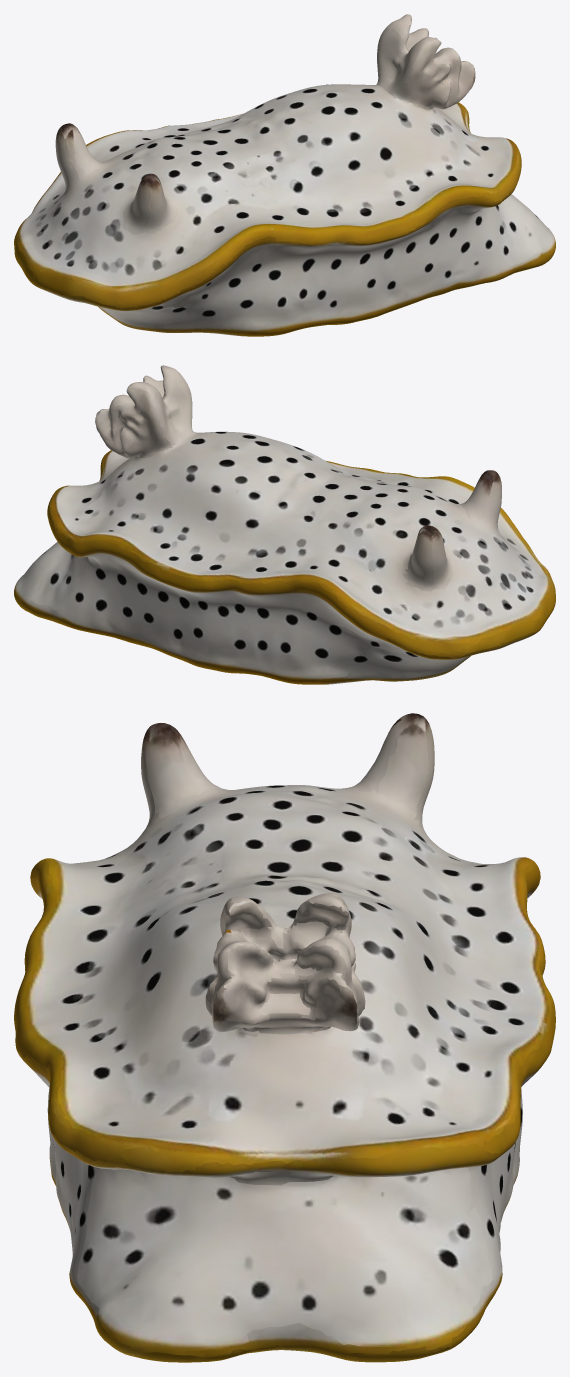
The model's file is nudi.glb.
3 views of the same model, one above another, from view 1: azimuth 30°, elevation 25°; view 2: azimuth 150°, elevation 25°; view 3: azimuth 270°, elevation 25° (orthographic). The views are drawn at different scales.
Parts seen in each view (by area): view 1: tmpmxchv8eu.ply; view 2: tmpmxchv8eu.ply; view 3: tmpmxchv8eu.ply.
Boxes of the visible parts, <box> form: tmpmxchv8eu.ply: <box>14,14,555,336</box>; tmpmxchv8eu.ply: <box>14,365,555,684</box>; tmpmxchv8eu.ply: <box>14,713,555,1362</box>.
Bounding box in the file's own units: 0.9875 × 0.4437 × 0.5429.
1 material, 1 textured.
